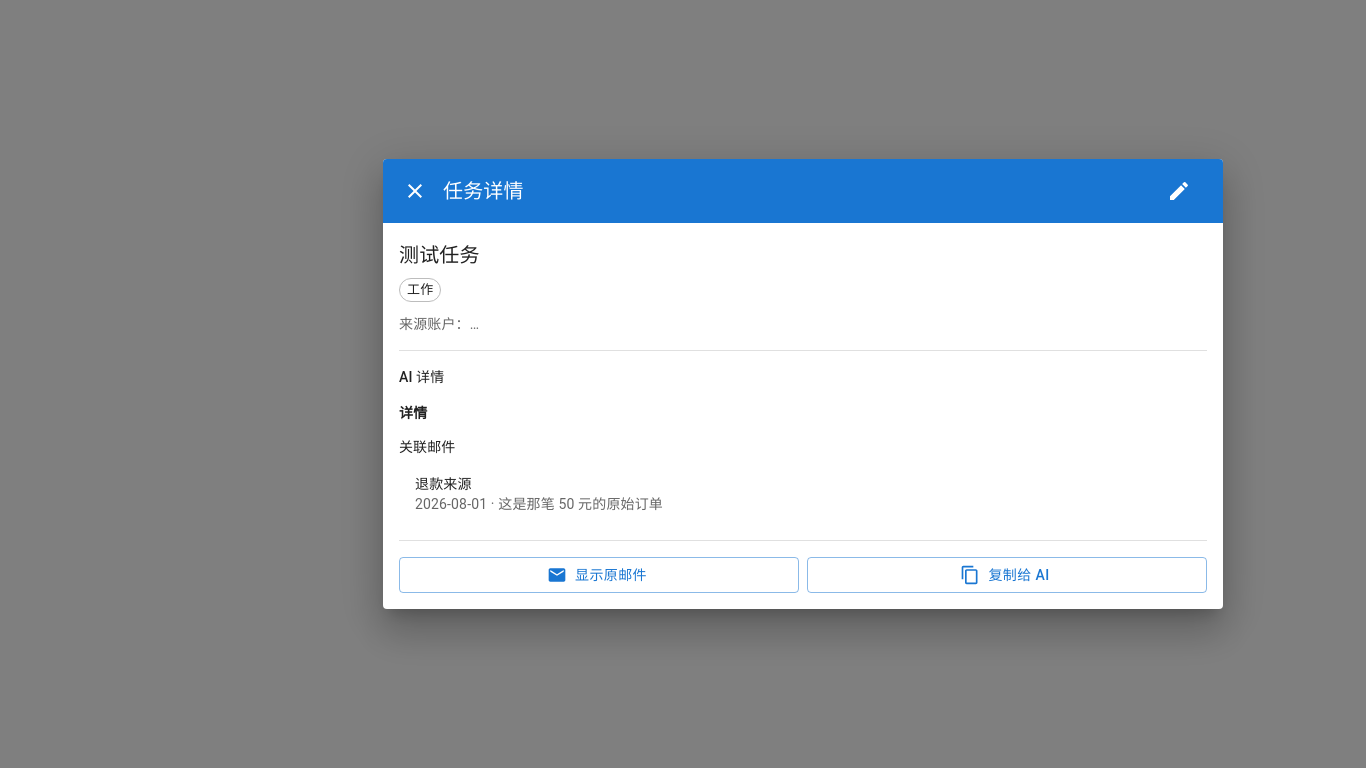
Test case: ItemDialog › 点「复制给 AI」请求 export，把 Markdown 写入剪贴板并提示成功
The image size is (1366, 768).
Expected: the text "退款来源" is shown, x1=415 y1=476 x2=472 y2=492
Click the button "复制给 AI" at (1007, 575), box x1=807 y1=557 x2=1207 y2=593
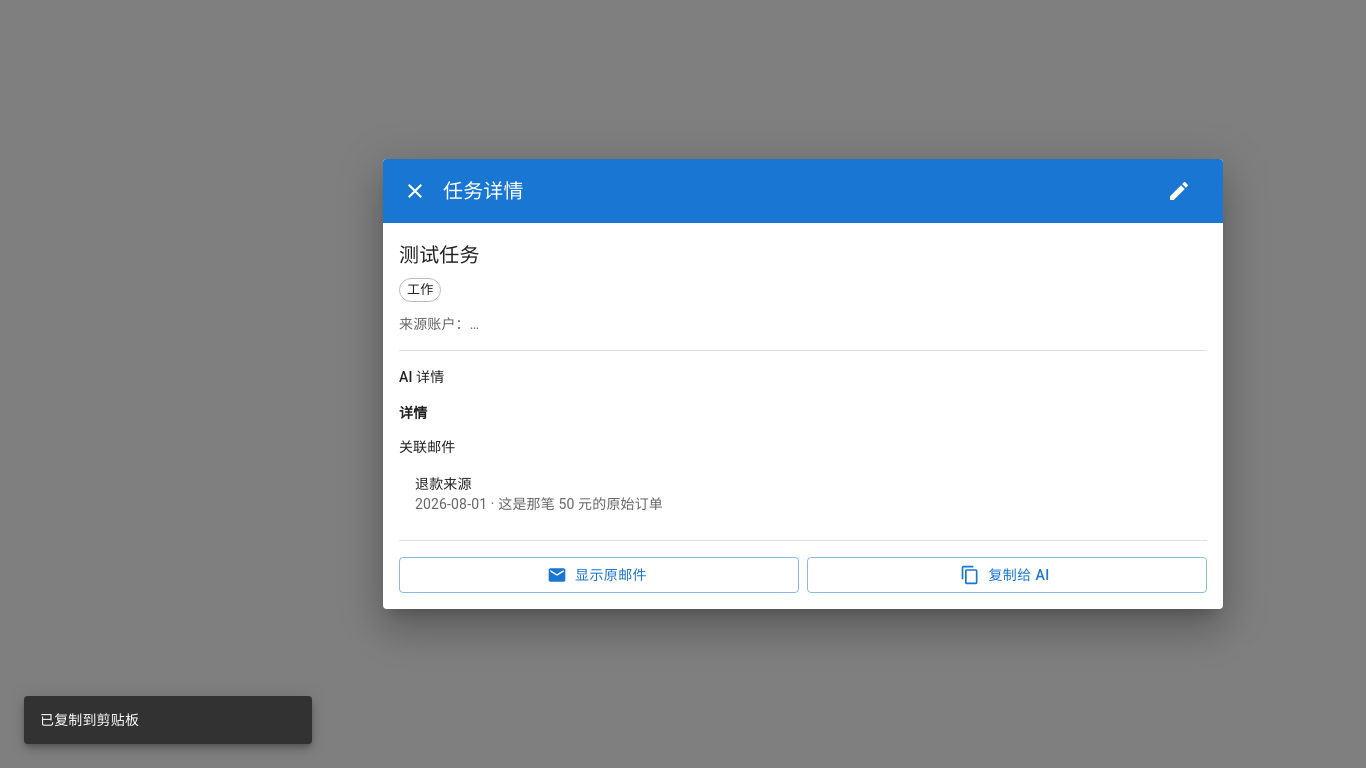
Result: the text "已复制到剪贴板" is shown at x1=40 y1=712 x2=139 y2=728
